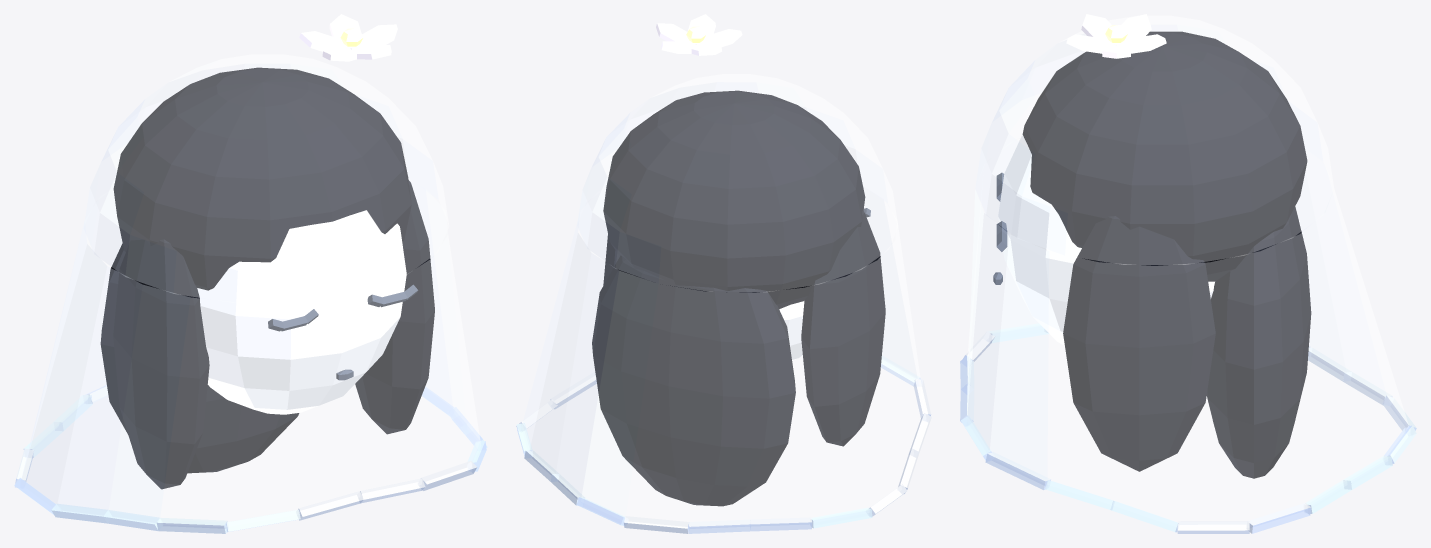
Rendered from lantern_widow_veil.glb.
3 renders of one model, left to right at view 1: azimuth 30°, elevation 25°; view 2: azimuth 150°, elevation 25°; view 3: azimuth 270°, elevation 25°, orthographic. The views are drawn at different scales.
Parts seen in each view (by area): view 1: lantern_widow_veil; view 2: lantern_widow_veil; view 3: lantern_widow_veil.
Boxes of the visible parts, bbox=[...] form: lantern_widow_veil: bbox=[14, 14, 487, 533]; lantern_widow_veil: bbox=[516, 14, 931, 533]; lantern_widow_veil: bbox=[960, 14, 1416, 533].
Bounding box in the file's own units: 1.24 × 1.38 × 1.2.
